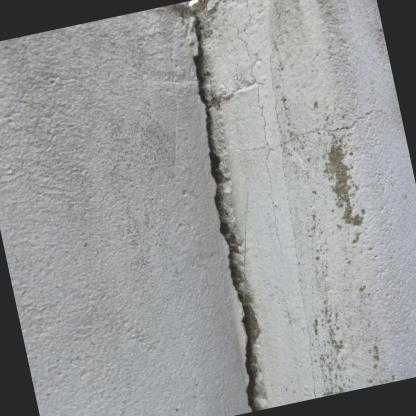crack: (191, 14, 263, 412)
